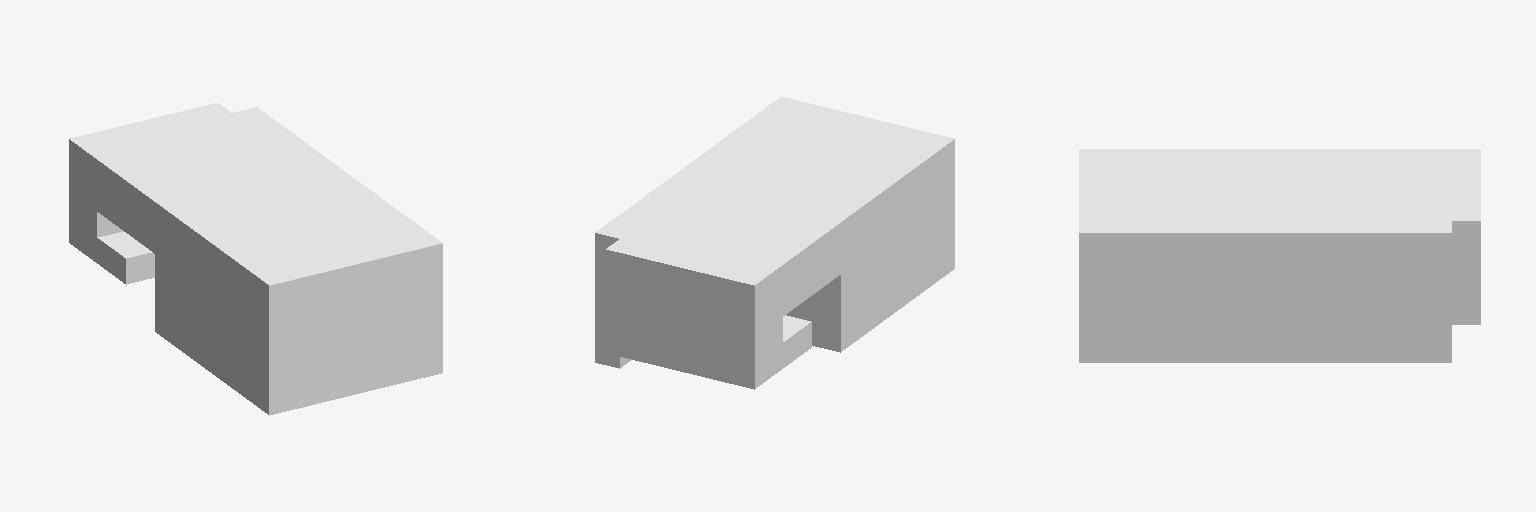
Rendered from gloveGDL.obj.
3 renders of one model, left to right at view 1: azimuth 30°, elevation 25°; view 2: azimuth 150°, elevation 25°; view 3: azimuth 270°, elevation 25°, orthographic.
Visible parts, largest first — view 1: grobeGD; view 2: grobeGD; view 3: grobeGD.
Part boxes in pixels (x1,y1,x2,y2): grobeGD: (69, 103, 442, 415); grobeGD: (595, 96, 954, 389); grobeGD: (1079, 149, 1480, 362).
Size of the model in its own units: 0.7 by 0.5 by 1.4.